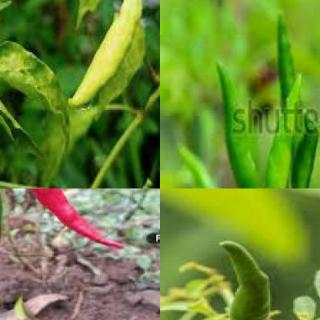green_chilli: (66, 0, 146, 112), (213, 61, 261, 188), (262, 75, 305, 188), (223, 241, 272, 319), (177, 144, 231, 188), (275, 9, 294, 106), (289, 130, 319, 188)
